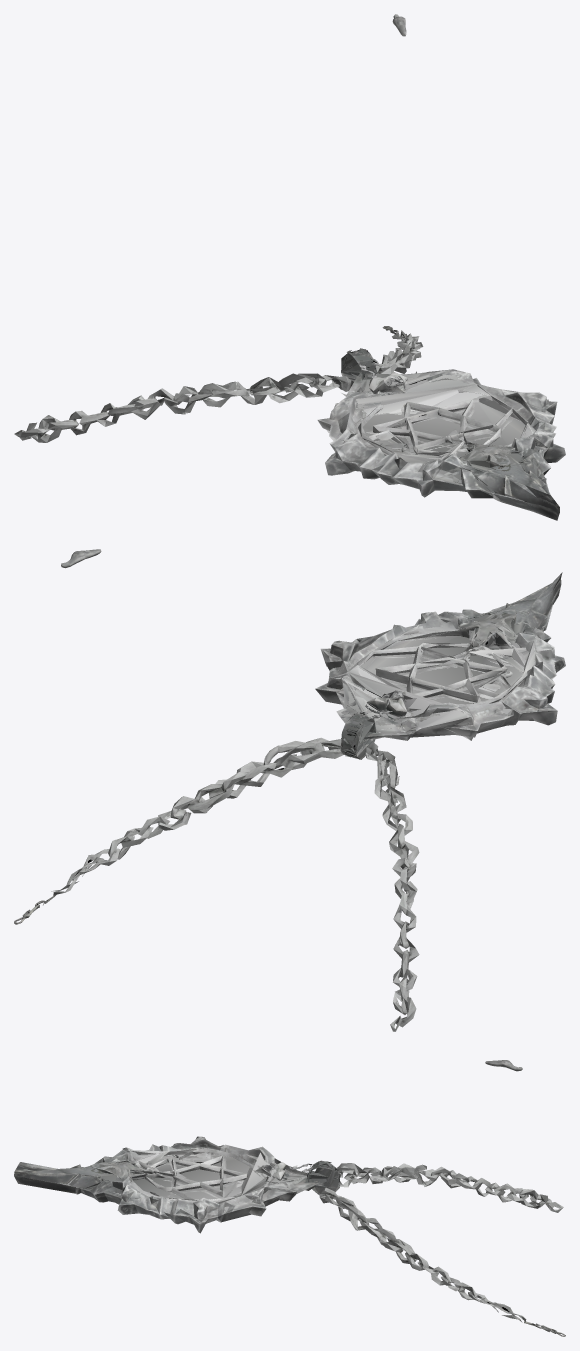
File: medallion_necklace_LOD1.glb
3 renders of one model, top to bottom at view 1: azimuth 30°, elevation 25°; view 2: azimuth 150°, elevation 25°; view 3: azimuth 270°, elevation 25°, orthographic. The views are drawn at different scales.
Parts seen in each view (by area): view 1: medallion_necklace_LOD1; view 2: medallion_necklace_LOD1; view 3: medallion_necklace_LOD1.
Boxes of the visible parts, x1=… form: medallion_necklace_LOD1: x1=14, y1=14, x2=565, y2=520; medallion_necklace_LOD1: x1=14, y1=549, x2=565, y2=1031; medallion_necklace_LOD1: x1=14, y1=1060, x2=565, y2=1336.
Bounding box in the file's own units: 0.5636 × 0.5133 × 0.9103.
1 material, 1 textured.
